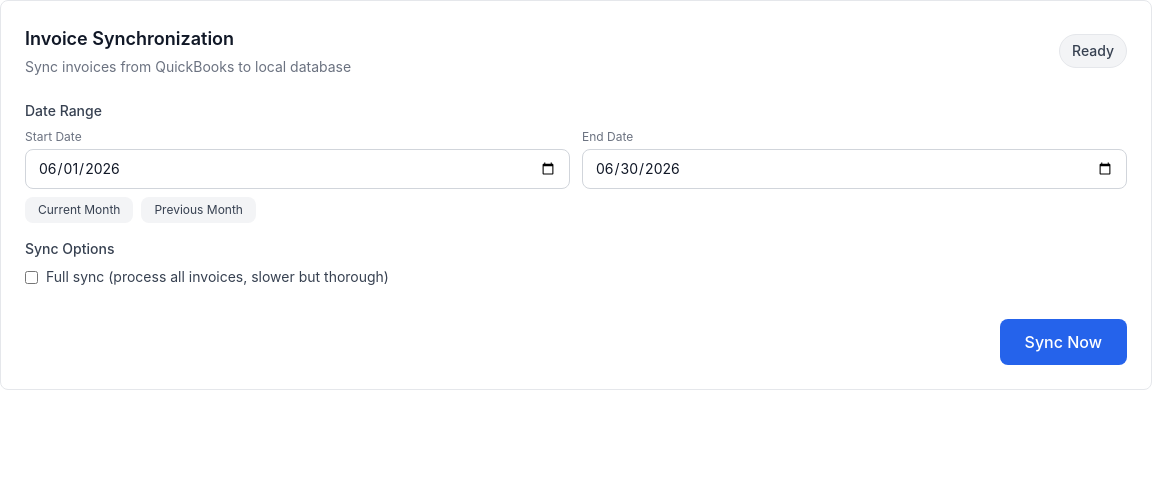
it: QuickBooksSyncPanel - Error Handling › should clear error when retry is clicked
The width and height of the screenshot is (1152, 497).
Click the button "Sync Now": (1063, 342) x1=1000 y1=319 x2=1127 y2=365
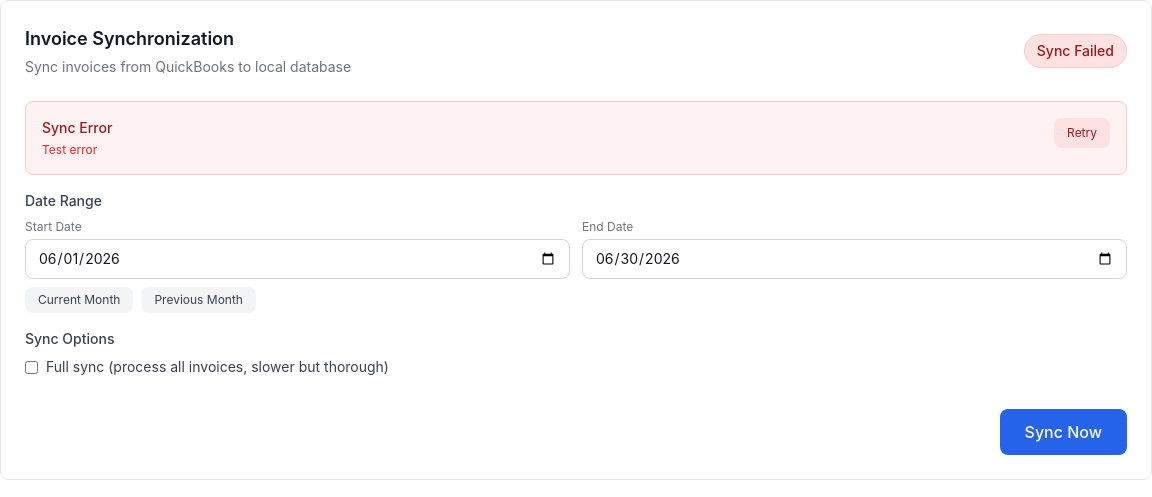
Expected: the button "Retry" is shown
Click the button "Retry": (1082, 133) x1=1054 y1=118 x2=1110 y2=148
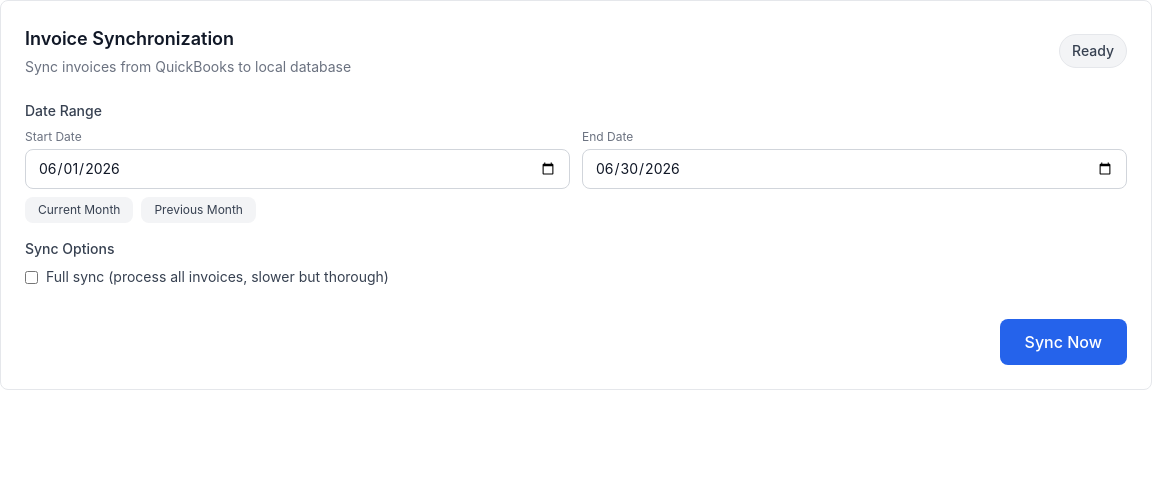
Expected: the text "Sync Error" is gone
Expected: the text "Ready" is shown, x1=1059 y1=34 x2=1127 y2=68
